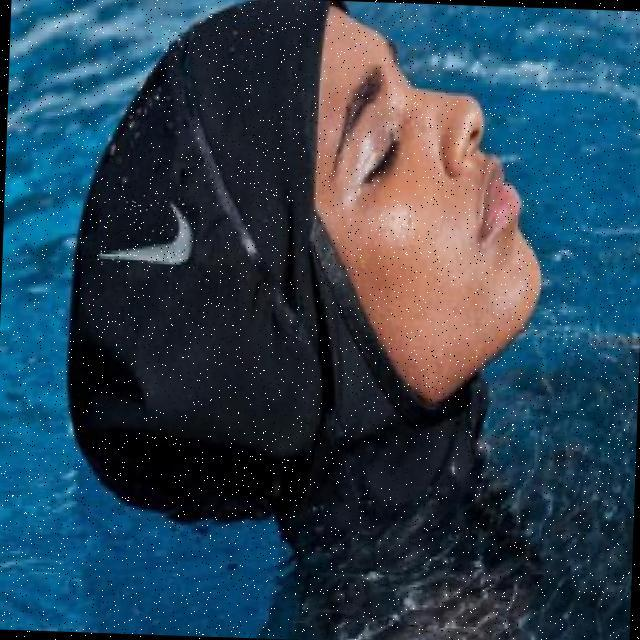Nike: (97, 193, 198, 268)
